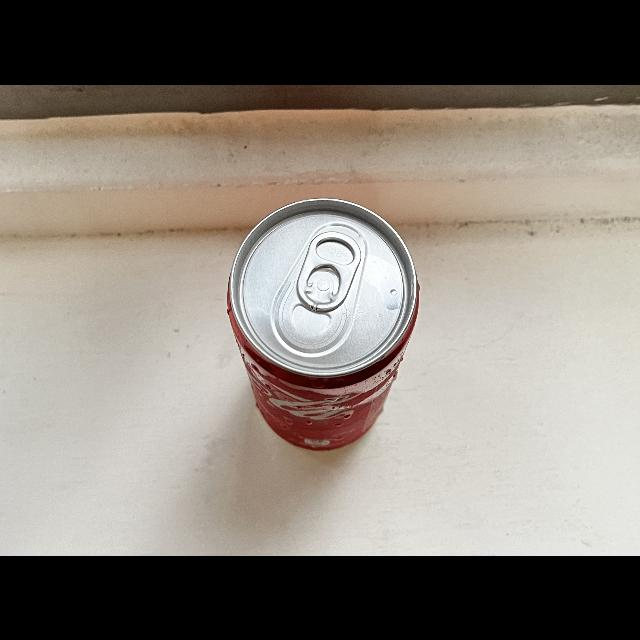can: (223, 193, 425, 453)
